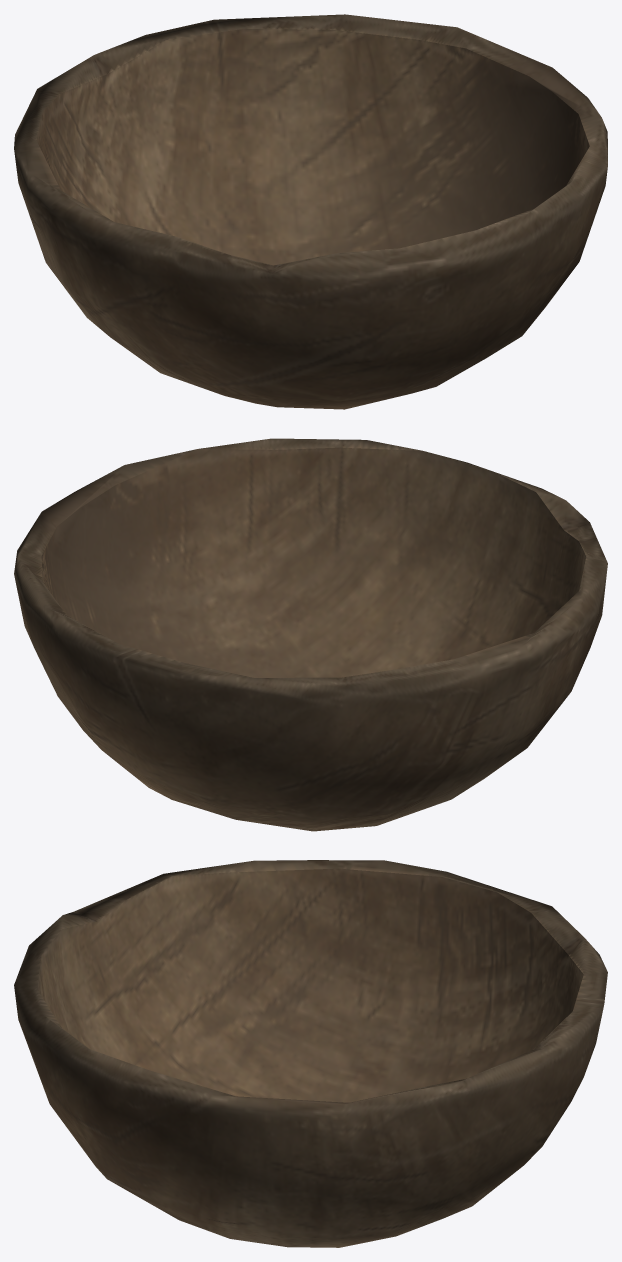
Rendered from SM_Bowl_00.fbx.
3 views of the same model, one above another, from view 1: azimuth 30°, elevation 25°; view 2: azimuth 150°, elevation 25°; view 3: azimuth 270°, elevation 25° (orthographic).
Parts seen in each view (by area): view 1: SM_Bowl_01; view 2: SM_Bowl_01; view 3: SM_Bowl_01.
Part boxes in pixels (<box>): SM_Bowl_01: <box>14,14,607,409</box>; SM_Bowl_01: <box>14,438,607,831</box>; SM_Bowl_01: <box>14,860,607,1247</box>.
Bounding box in the file's own units: 50.87 × 20.31 × 50.77.
1 material, 1 textured.
